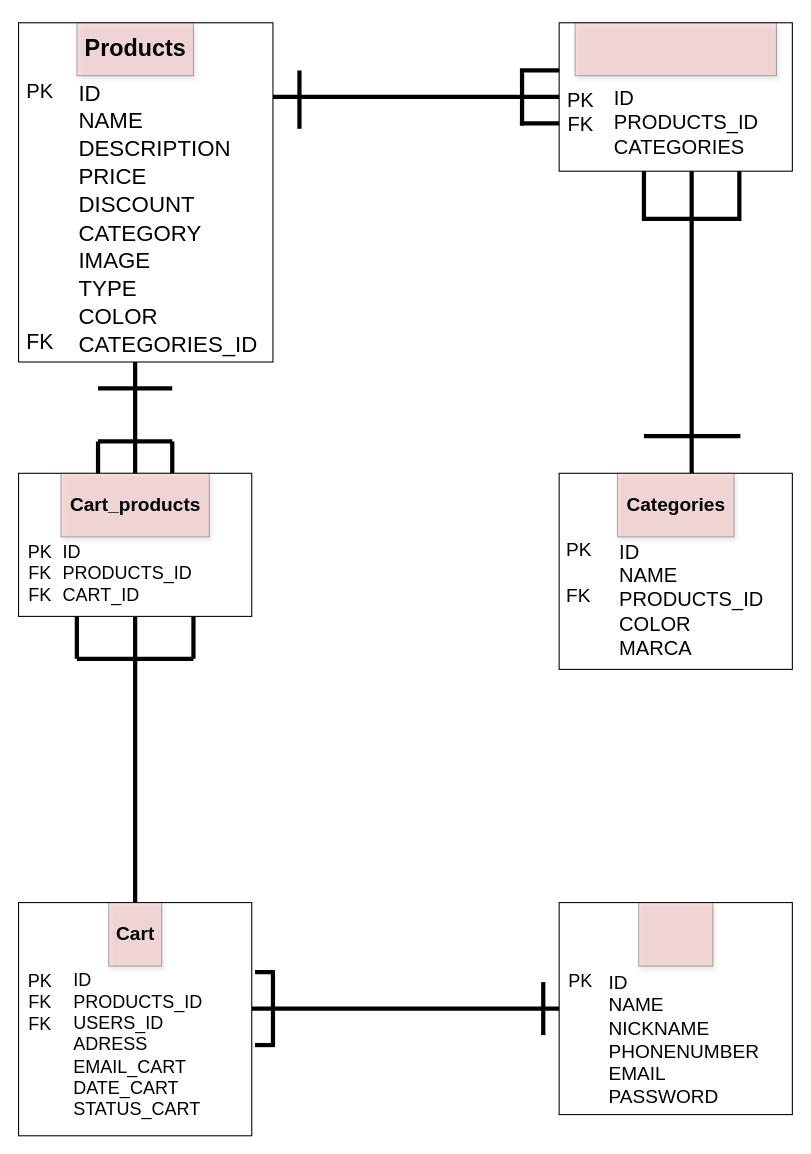
The diagram is 811 pixels wide and 1154 high, and some of its shapes have lost their labels. Here are the shapes that lost their labels. From the top down, the centre of each, then its label:
At (676,50): "Categories_products".
At (676,935): "Users".
